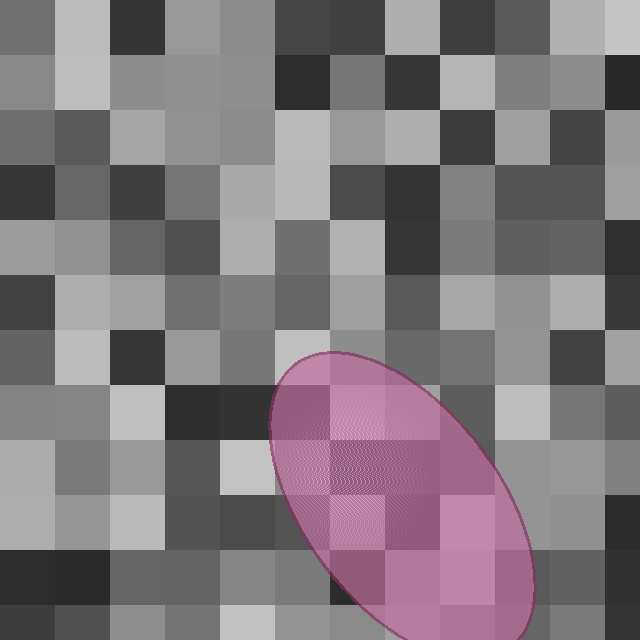lens: (270, 353, 534, 640)
